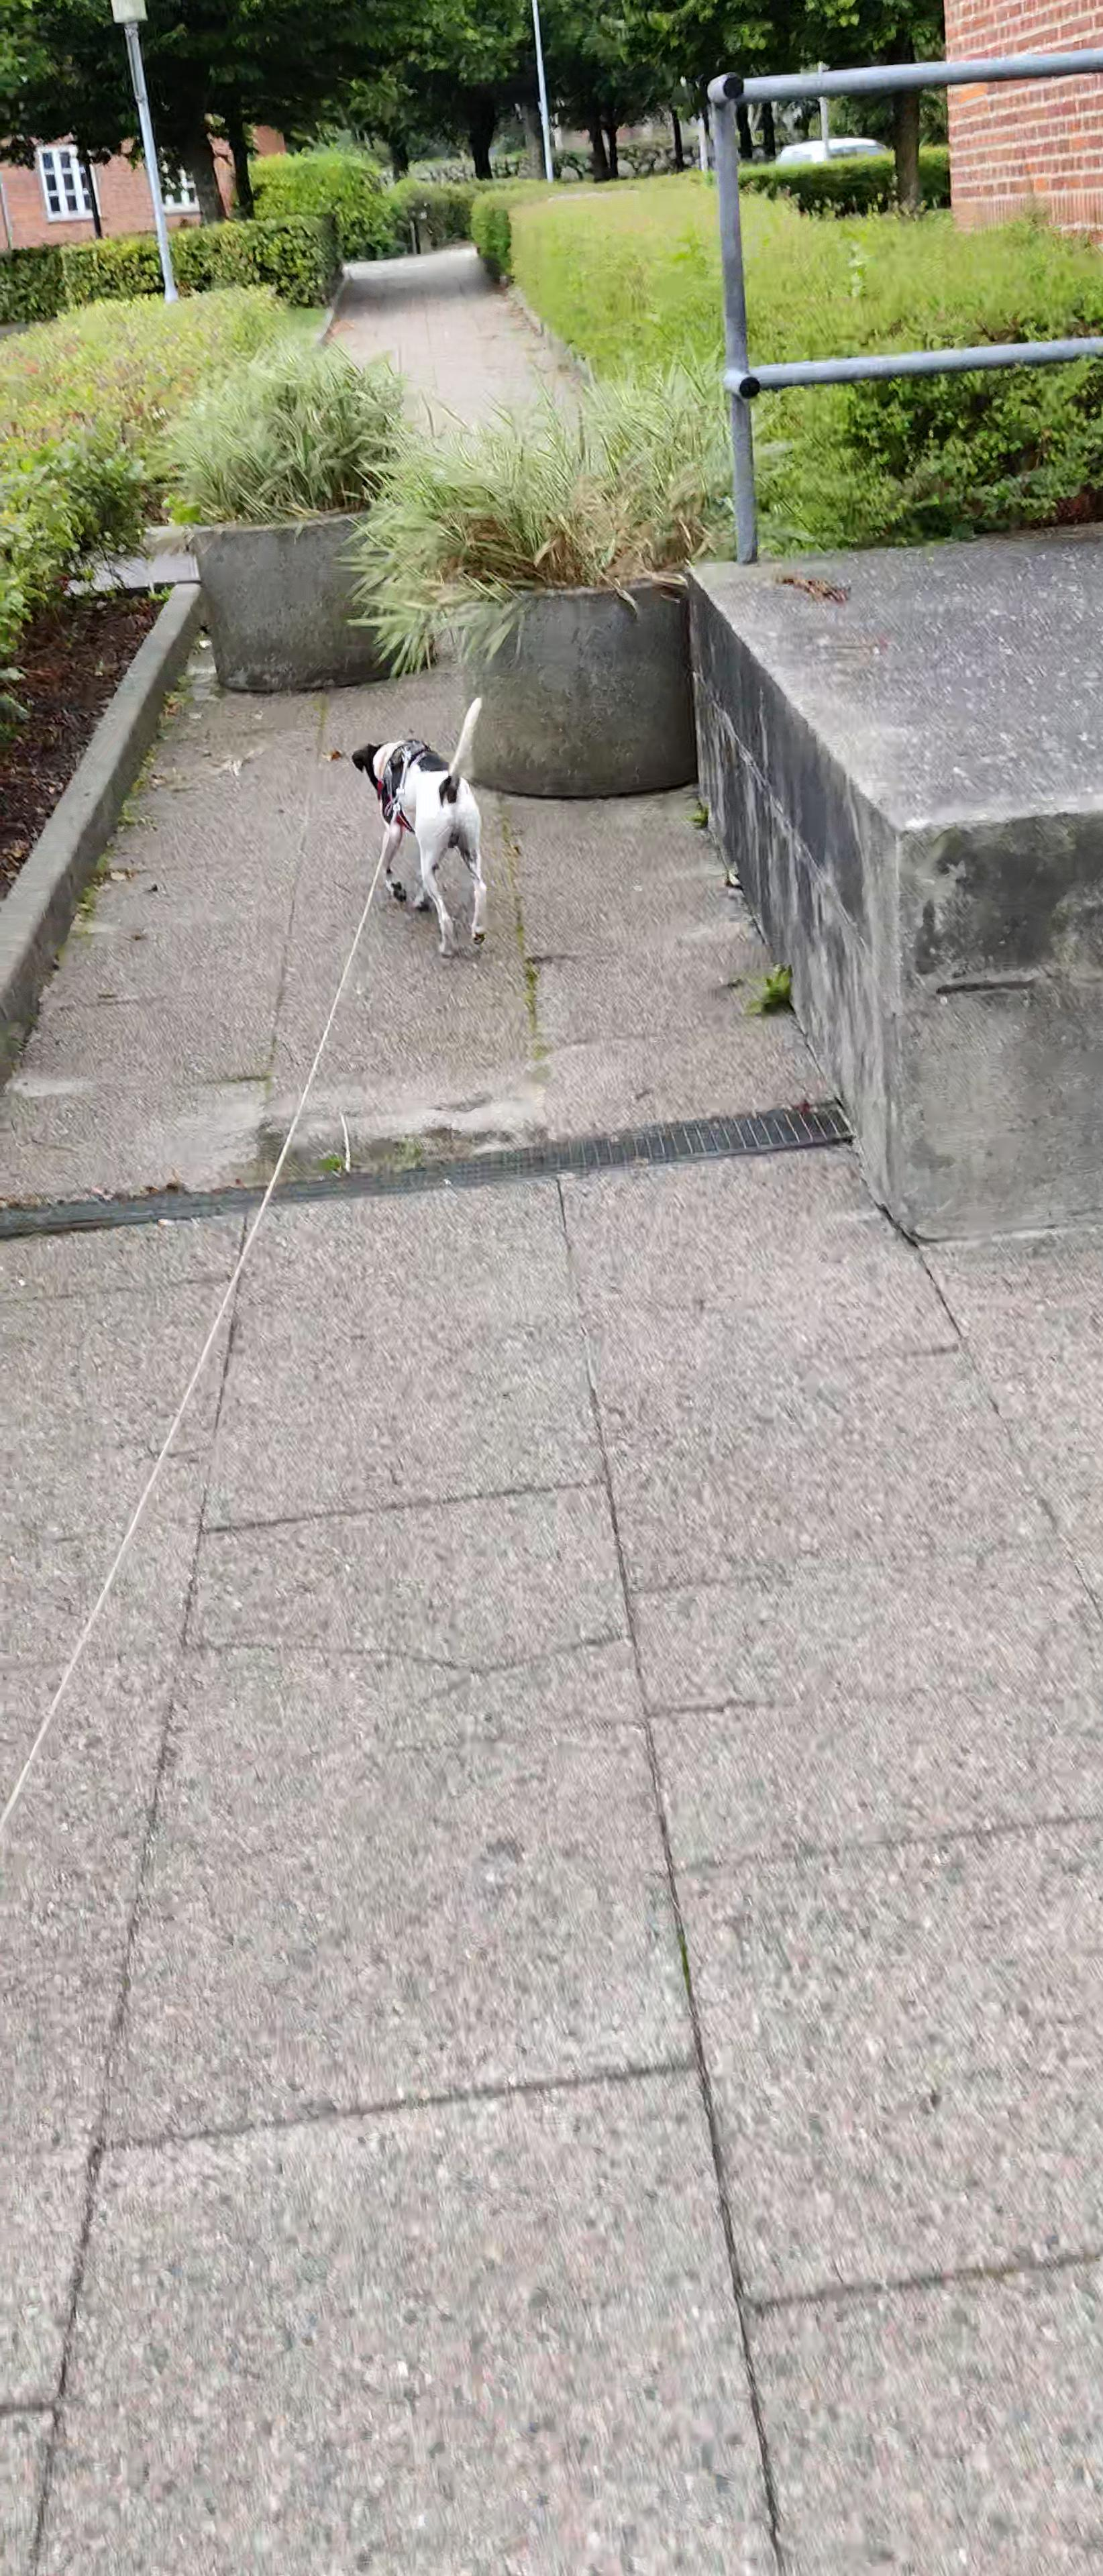Dog: (348, 695, 490, 963)
